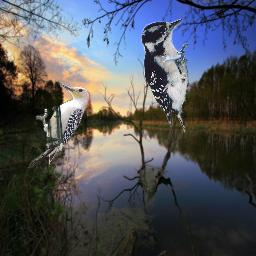Woodpecker: (141, 19, 191, 134), (28, 82, 92, 168)
